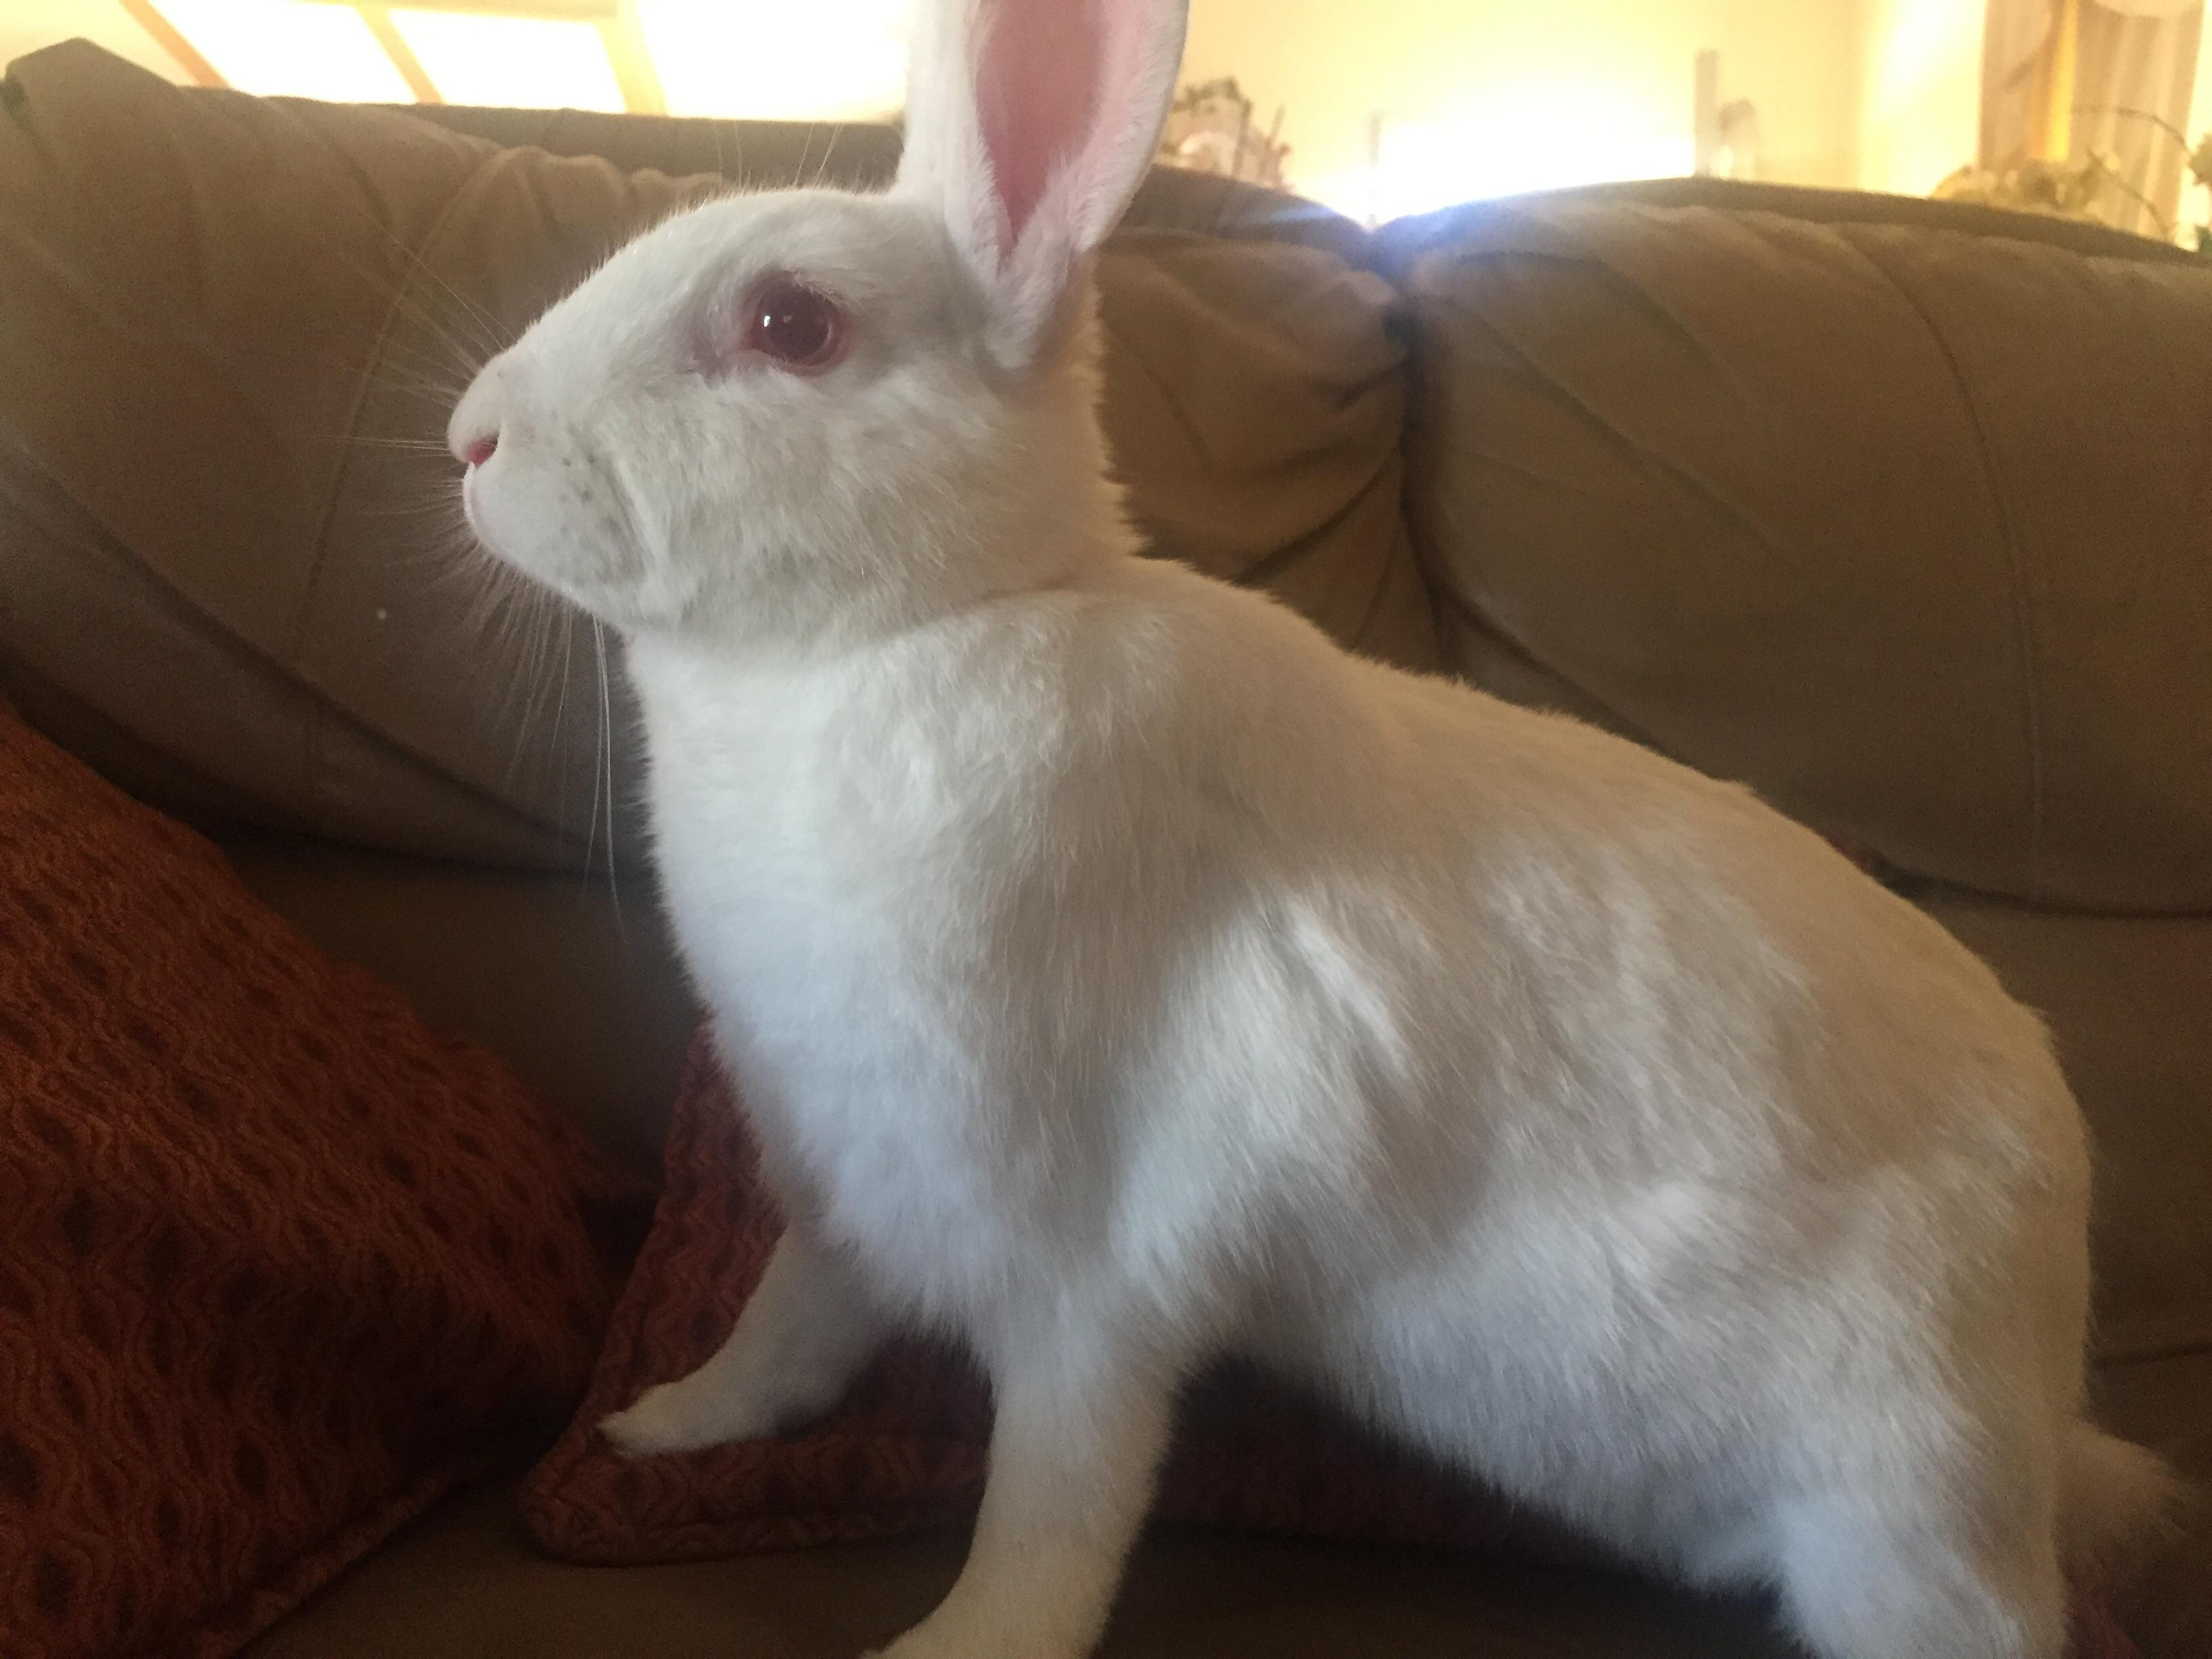bunny: (394, 21, 2184, 1659)
